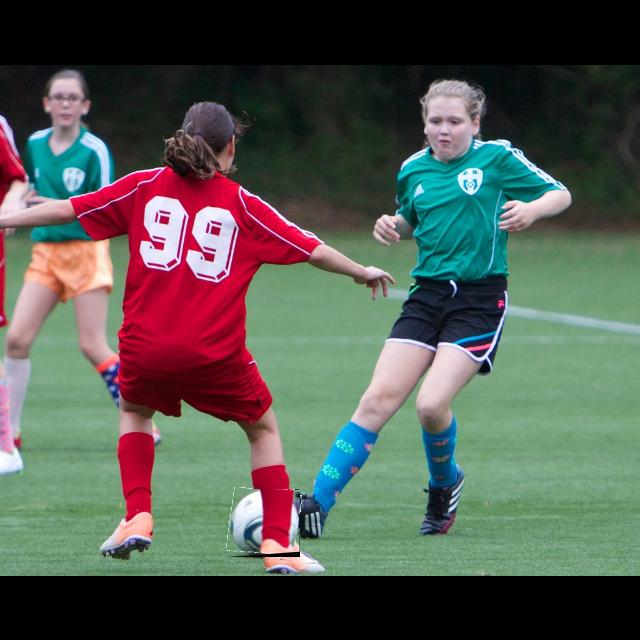Football: (228, 489, 300, 557)
